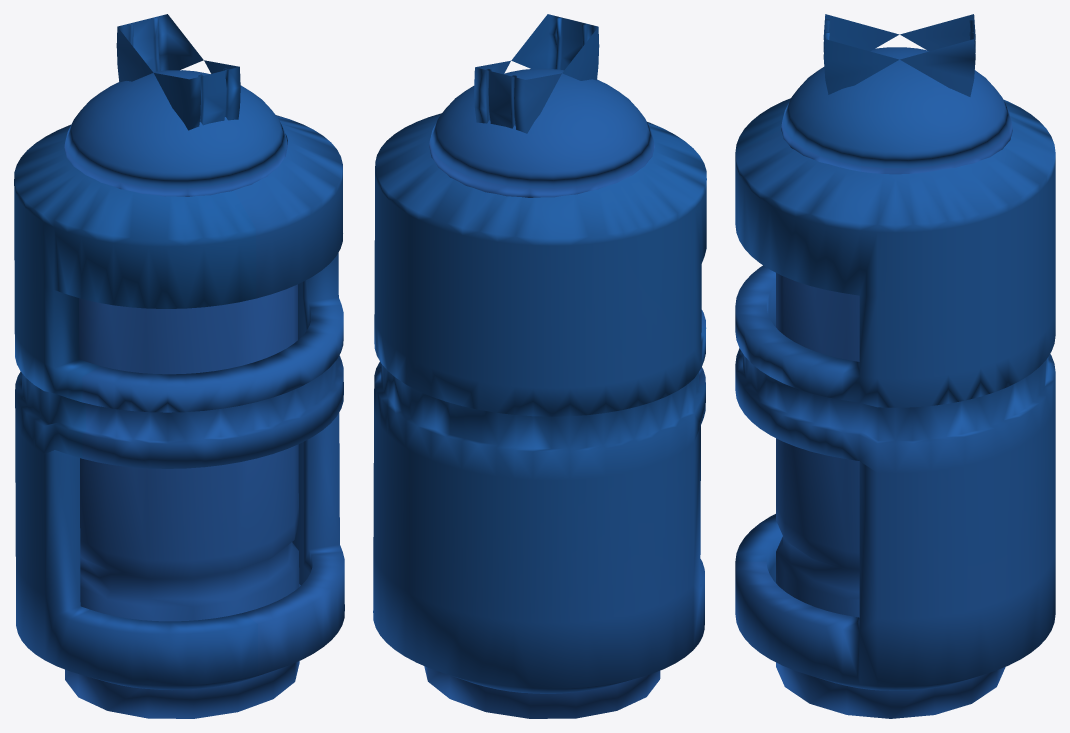
The model's file is forearm.dae.
3 views of the same model, side by side, from view 1: azimuth 30°, elevation 25°; view 2: azimuth 150°, elevation 25°; view 3: azimuth 270°, elevation 25° (orthographic). The views are drawn at different scales.
Parts seen in each view (by area): view 1: test003_002; view 2: test003_002; view 3: test003_002.
Boxes of the visible parts, bbox=[...] form: test003_002: bbox=[14, 14, 344, 718]; test003_002: bbox=[373, 14, 706, 718]; test003_002: bbox=[735, 14, 1055, 718].
Bounding box in the file's own units: 0.2986 × 0.2748 × 0.6078.
1 material, 1 textured.
